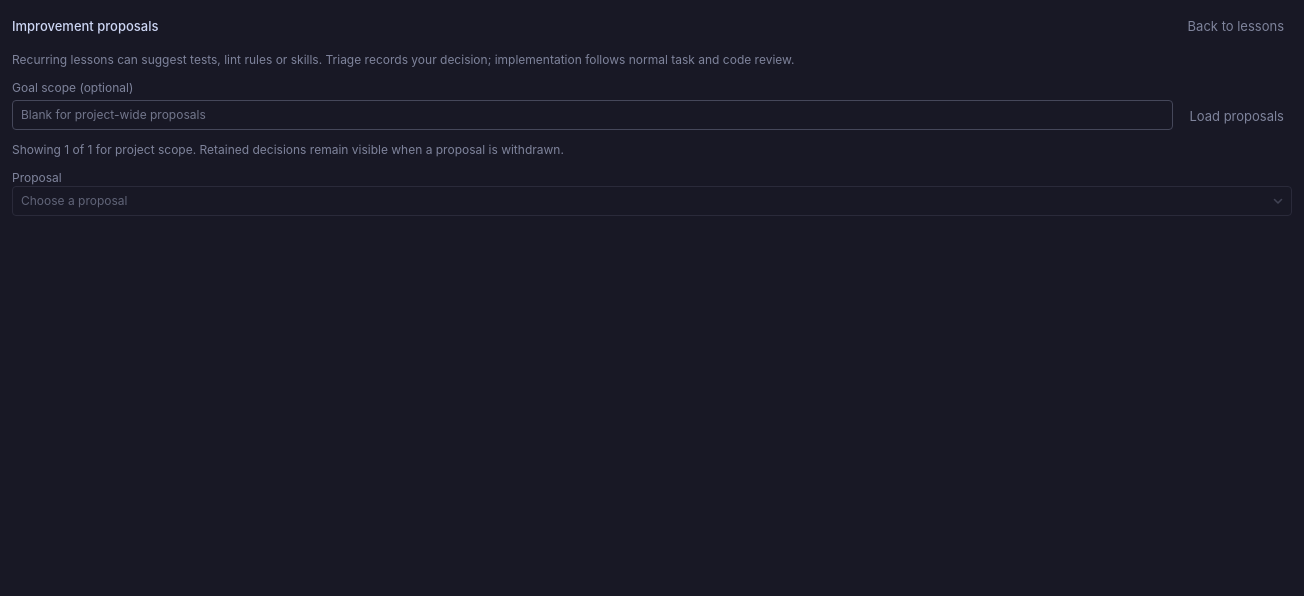
Test: KnowledgeImprovements › keeps withdrawn decisions inspectable but offers no triage or export
Select "Dialog focus · withdrawn; history retained" in the dropdown labelled "Proposal" at point(652, 201), box [12, 186, 1292, 216]
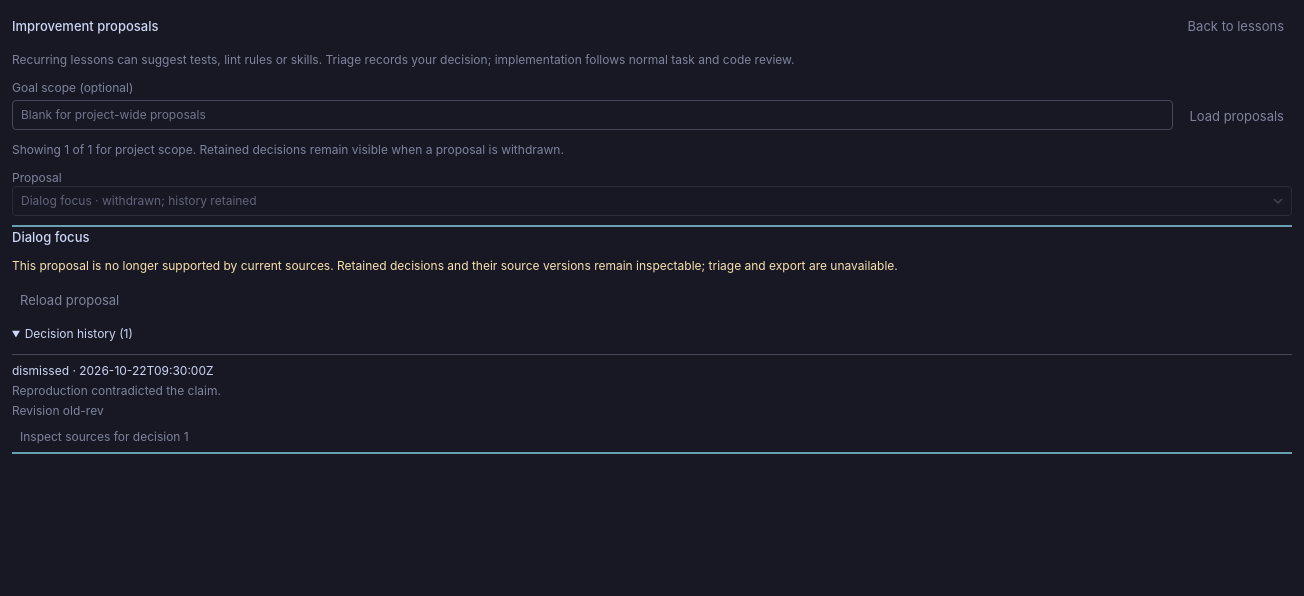
expect the button "Reload proposal" is shown: met, box [12, 286, 127, 314]
expect the text "no longer supported by current sources" is shown: met, box [12, 258, 898, 273]
Click the button "Inspect sources for decision 1" at point(104, 437), box [12, 423, 197, 451]
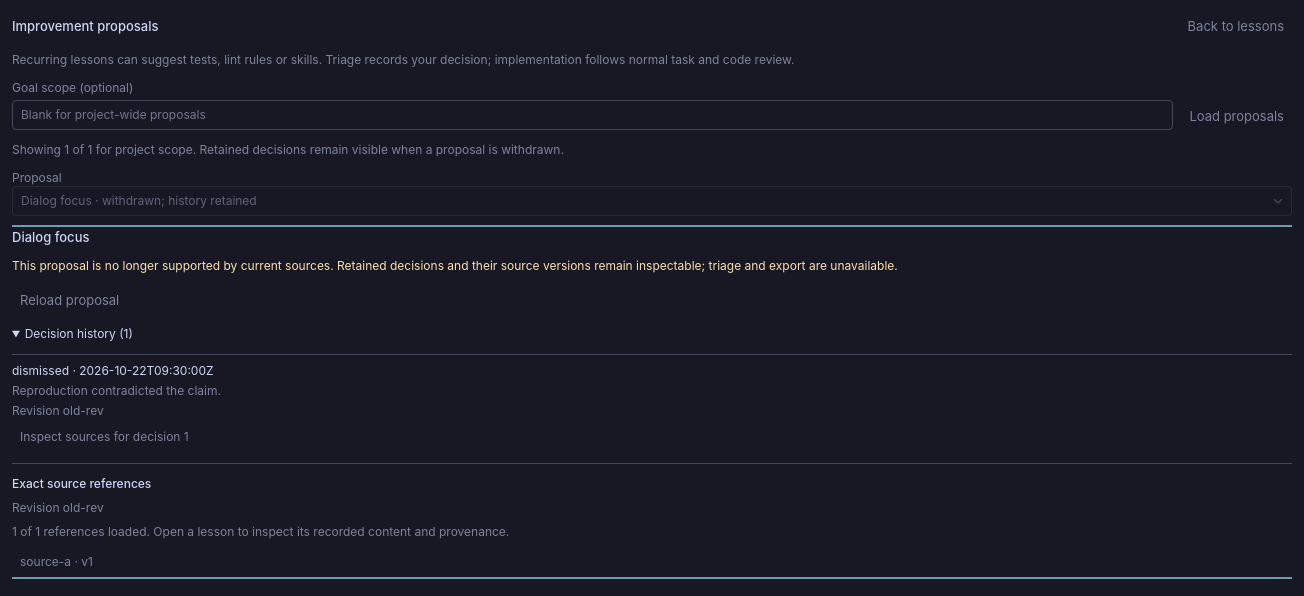
expect the button "source-a · v1" is shown: met, box [12, 548, 101, 576]
